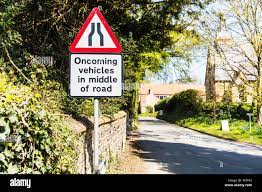narrow-road: (68, 7, 122, 54)
